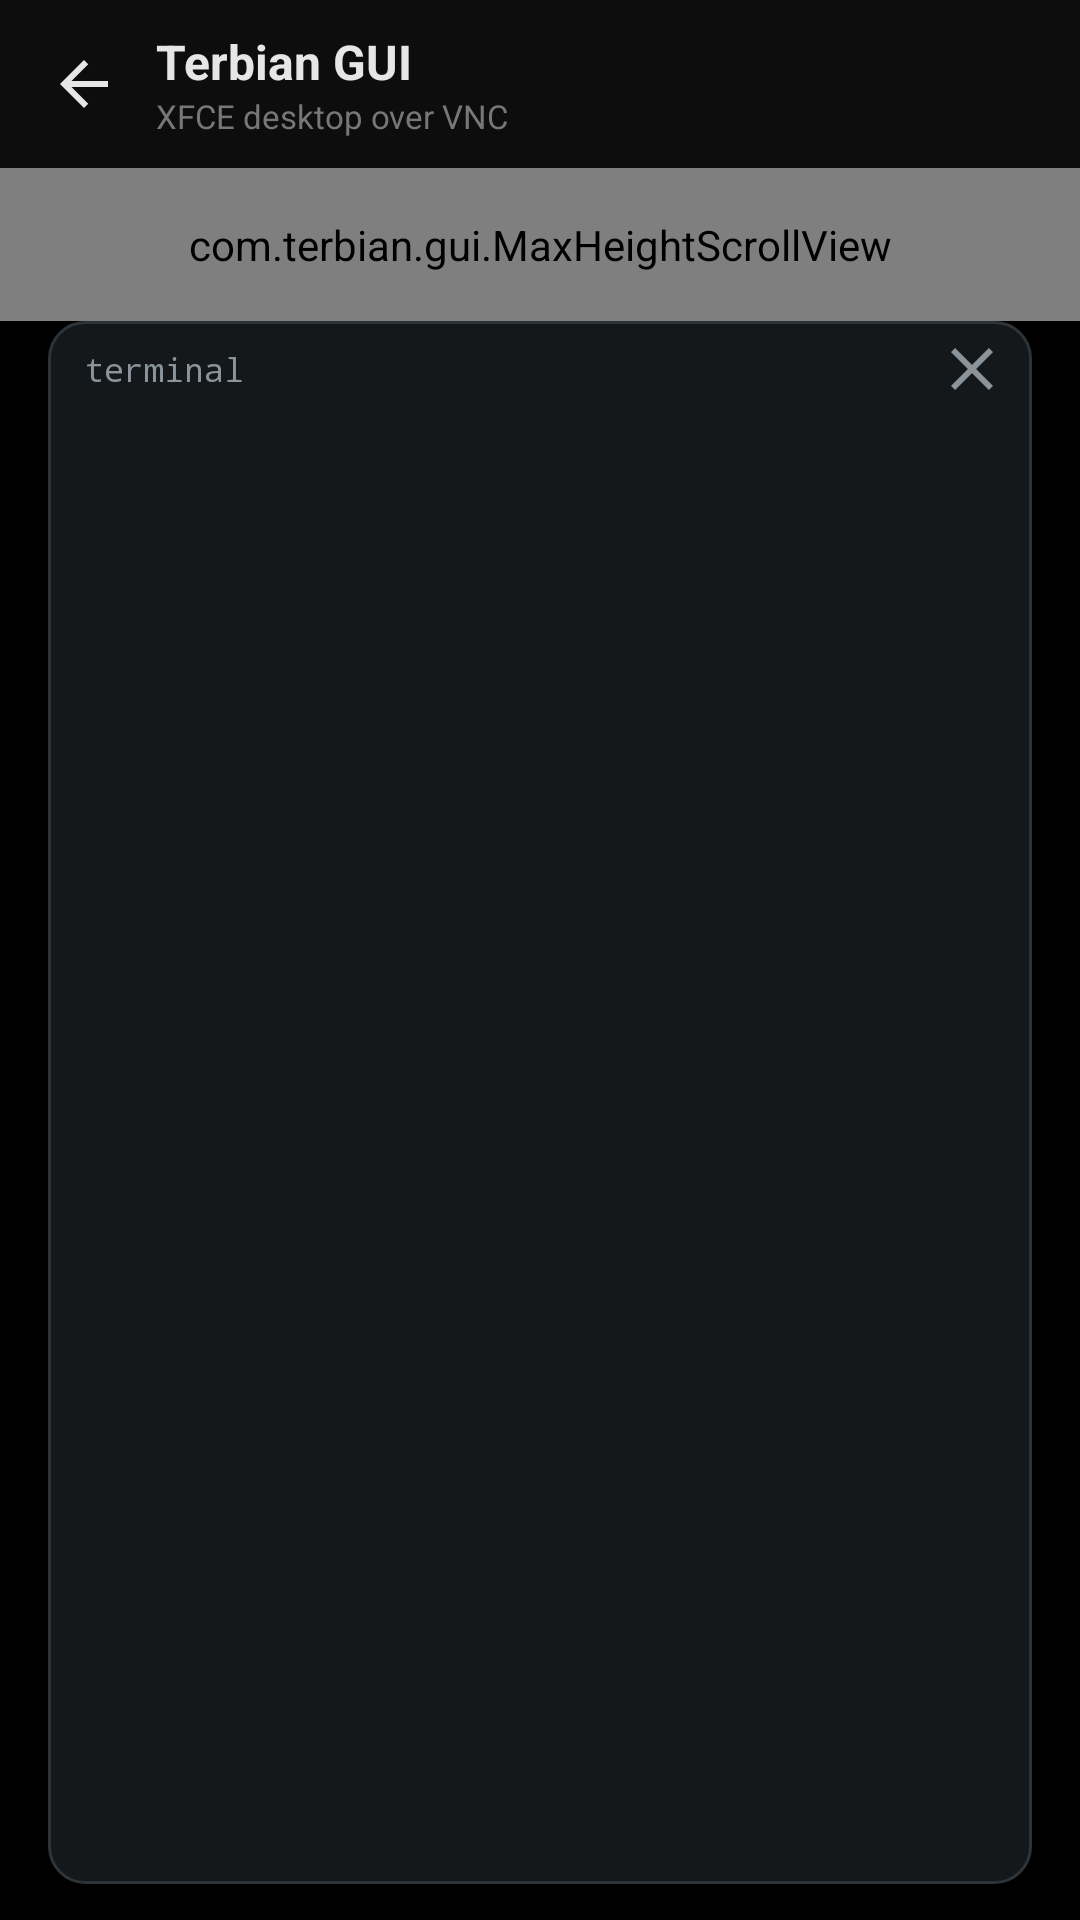

Screen size 1080 × 1920. Icon name, then its box in pixels as bbox=(x1, y1, x2, y2):
Clear log: bbox=(951, 348, 993, 390)
